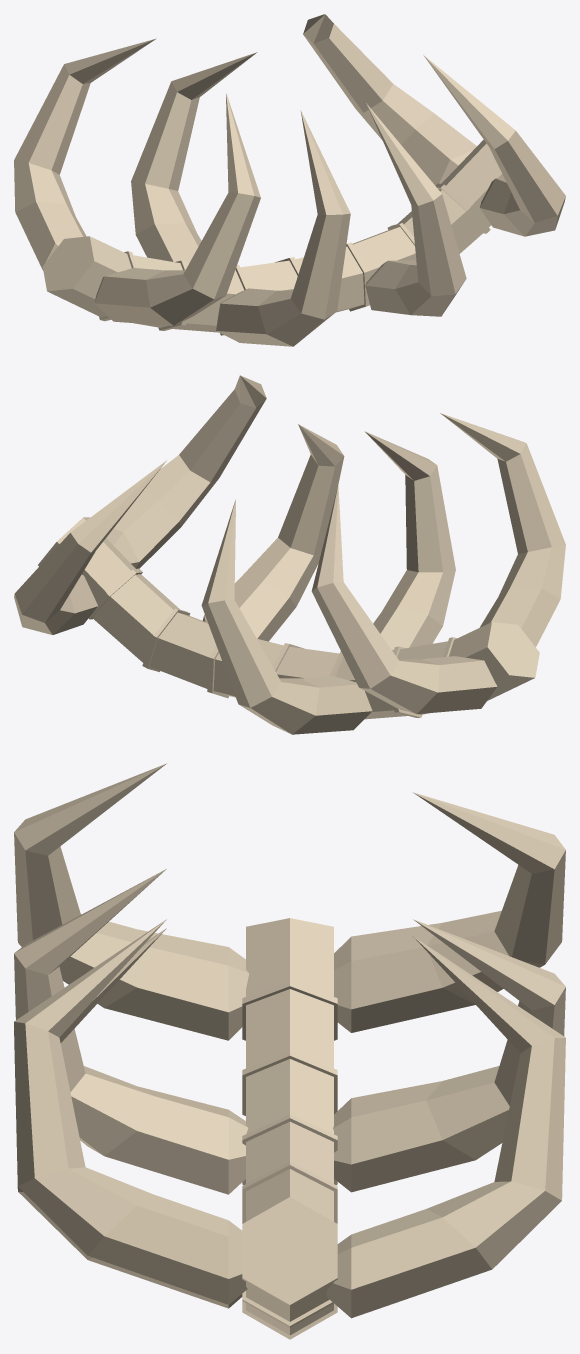
The model's file is skeleton.fbx.
3 views of the same model, one above another, from view 1: azimuth 30°, elevation 25°; view 2: azimuth 150°, elevation 25°; view 3: azimuth 270°, elevation 25° (orthographic). The views are drawn at different scales.
Parts seen in each view (by area): view 1: Cylinder; view 2: Cylinder; view 3: Cylinder.
Part boxes in pixels (x1=…): Cylinder: x1=14, y1=14, x2=565, y2=346; Cylinder: x1=14, y1=375, x2=565, y2=734; Cylinder: x1=14, y1=763, x2=565, y2=1339.
Size of the model in its own units: 1601 by 922 by 1089.
